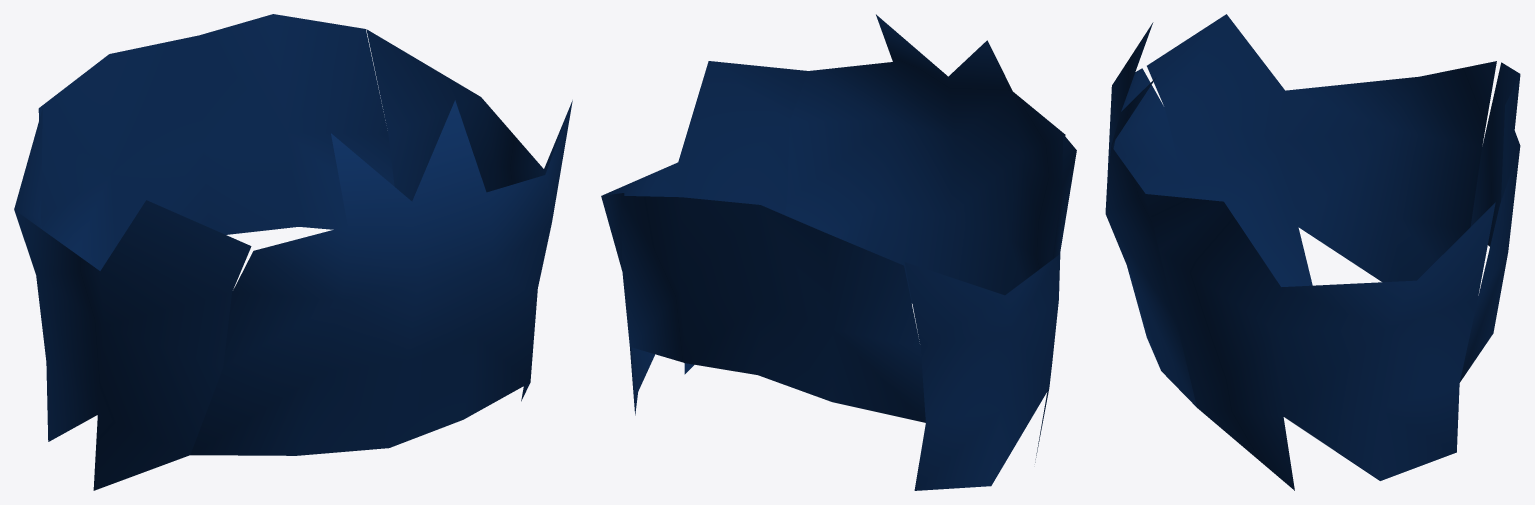
The model's file is spine1.glb.
3 views of the same model, side by side, from view 1: azimuth 30°, elevation 25°; view 2: azimuth 150°, elevation 25°; view 3: azimuth 270°, elevation 25° (orthographic). The views are drawn at different scales.
Visible parts, largest first — view 1: sweater-navy_SPINE1; view 2: sweater-navy_SPINE1; view 3: sweater-navy_SPINE1.
Part boxes in pixels (x1,y1,x2,y2): sweater-navy_SPINE1: [14, 14, 572, 490]; sweater-navy_SPINE1: [601, 14, 1076, 490]; sweater-navy_SPINE1: [1105, 14, 1520, 490].
Bounding box in the file's own units: 0.3759 × 0.3033 × 0.3237.
Materials: 1 (1 with a texture image).
